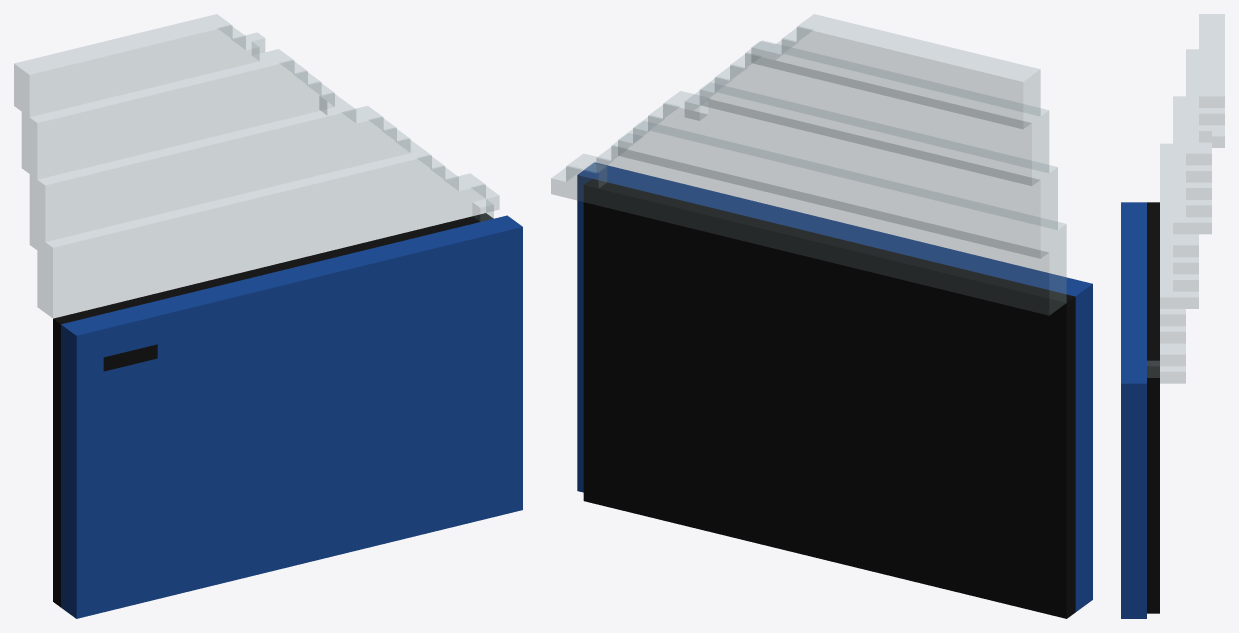
The model's file is city_car_front_door.glb.
3 views of the same model, side by side, from view 1: azimuth 30°, elevation 25°; view 2: azimuth 150°, elevation 25°; view 3: azimuth 270°, elevation 25° (orthographic). The views are drawn at different scales.
Parts seen in each view (by area): view 1: body:compound; view 2: body:compound; view 3: body:compound.
Part boxes in pixels (x1,y1,x2,y2): body:compound: (14, 14, 522, 618); body:compound: (551, 14, 1092, 618); body:compound: (1121, 14, 1224, 618).
Bounding box in the file's own units: 1.03 × 1.12 × 0.25.
